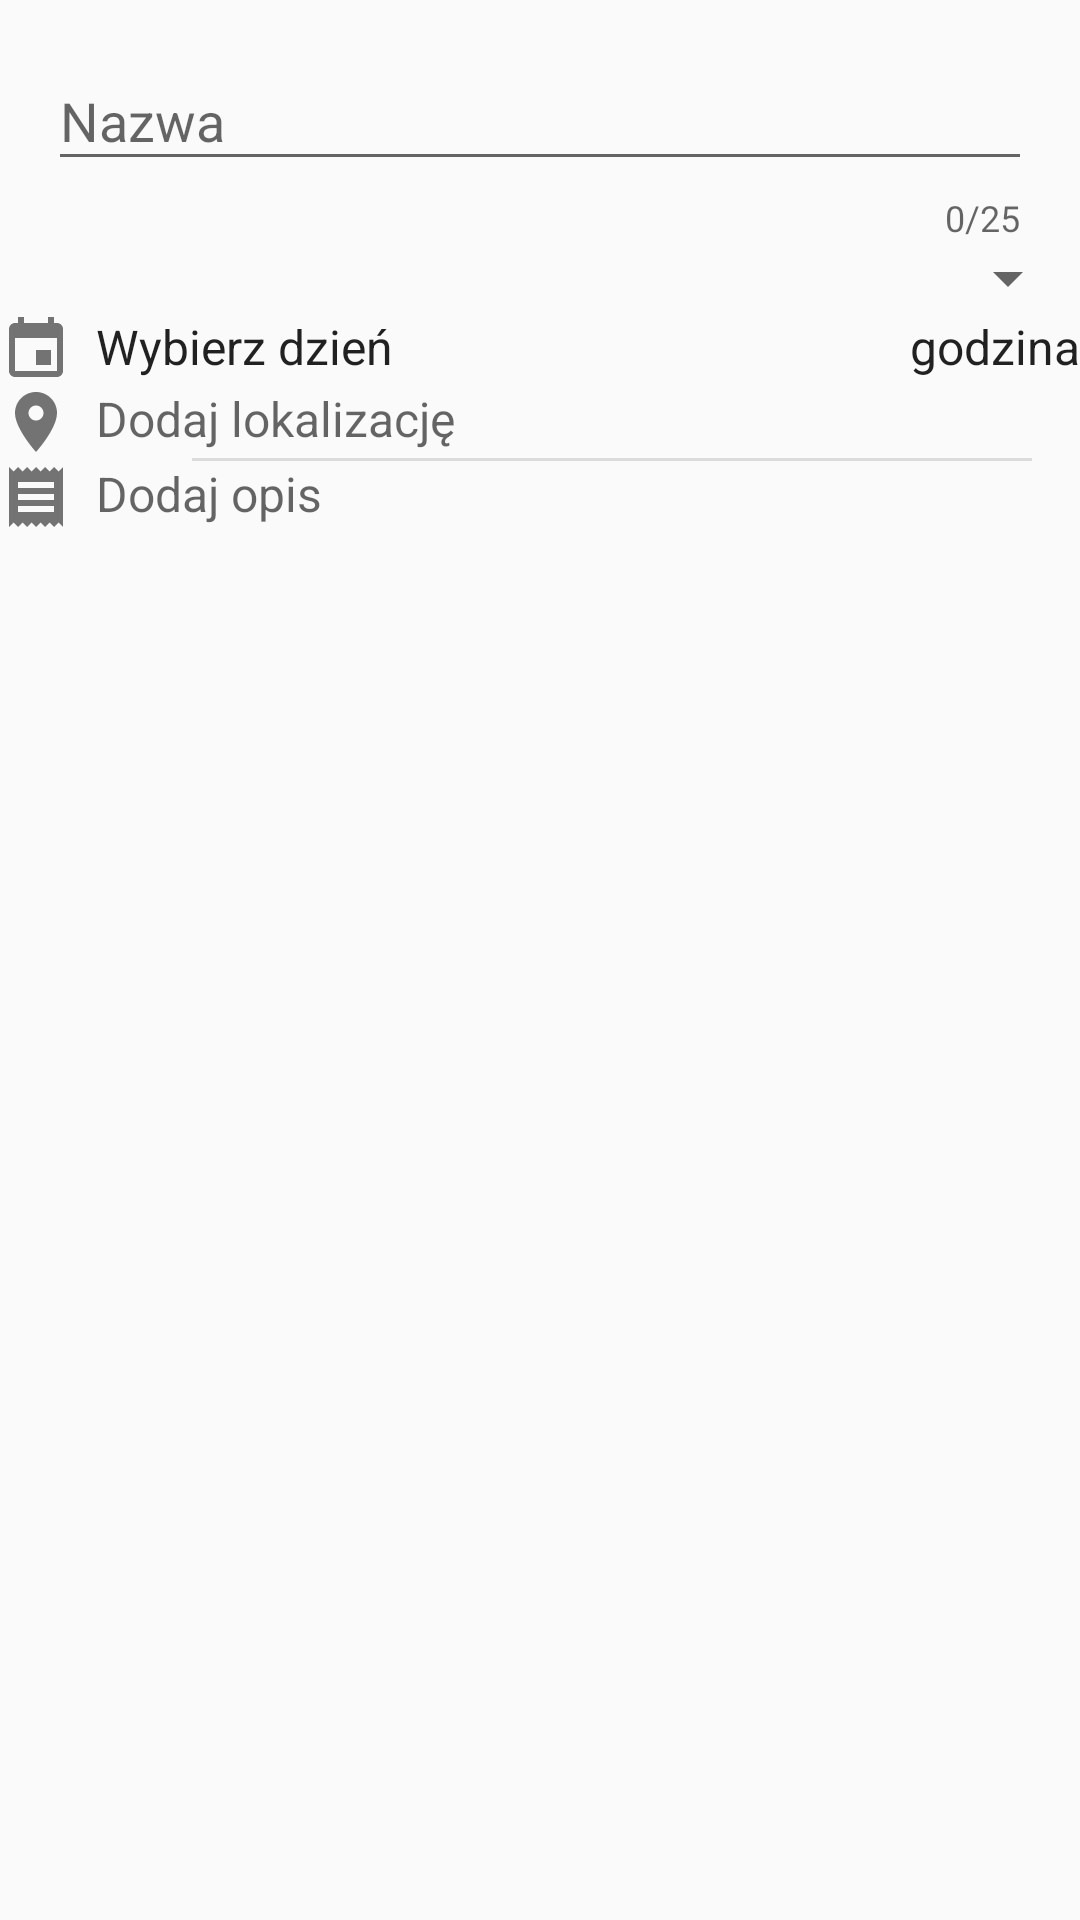

Point at icon controls on the screen. Image size 1080 x 1920, points as (x=x, y=y).
event datetime: (x=36, y=347)
event description: (x=36, y=497)
event place: (x=36, y=422)
